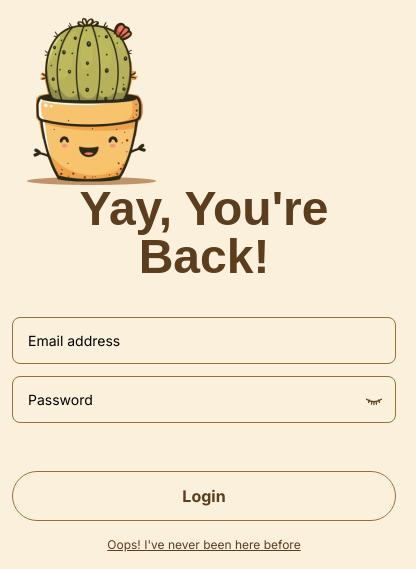
LoginForm › disables the submit button while the mutation is pending
Type "test@example.com" into the field with placeholder "Email address" at (204, 340), box [12,317,396,364]
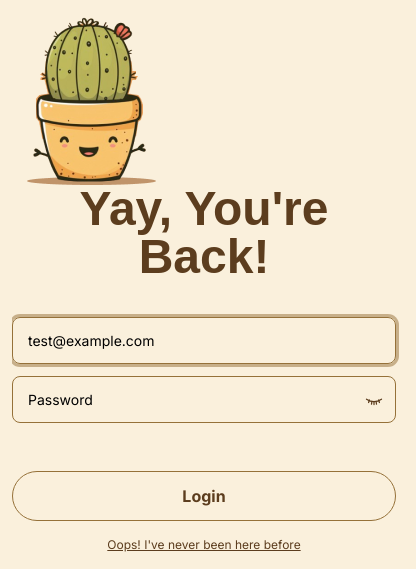
Type "password123" into the password field with placeholder "Password" at (204, 400), box [12,376,396,423]
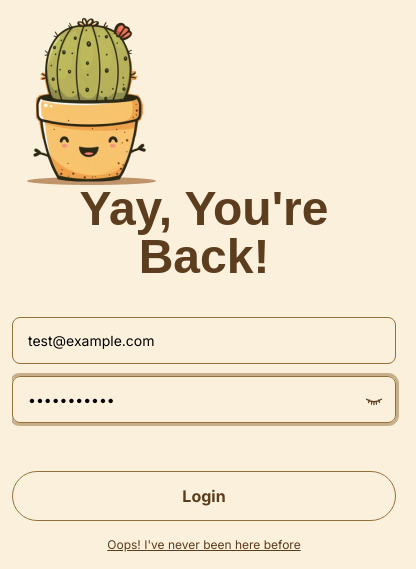
Click the button "Login" at (204, 496), box [12,471,396,521]
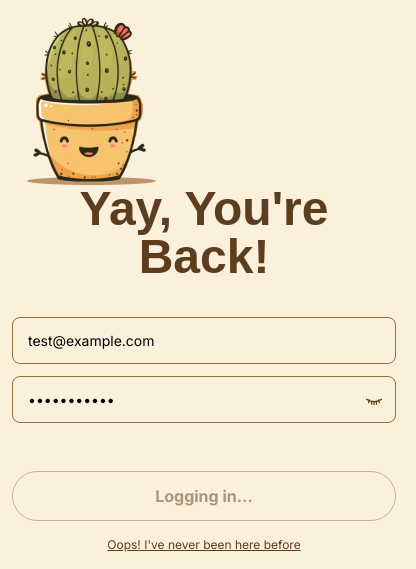
Result: the button "Logging in…" is disabled at [12,471,396,521]
